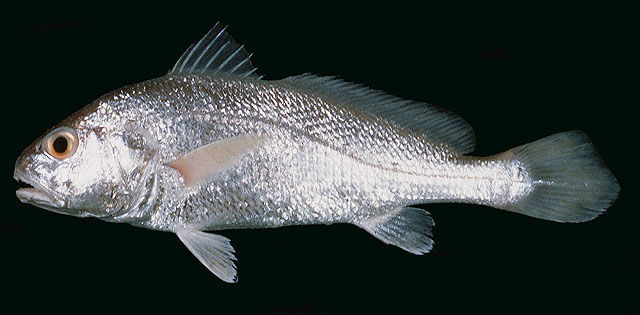fish: (12, 22, 622, 283)
